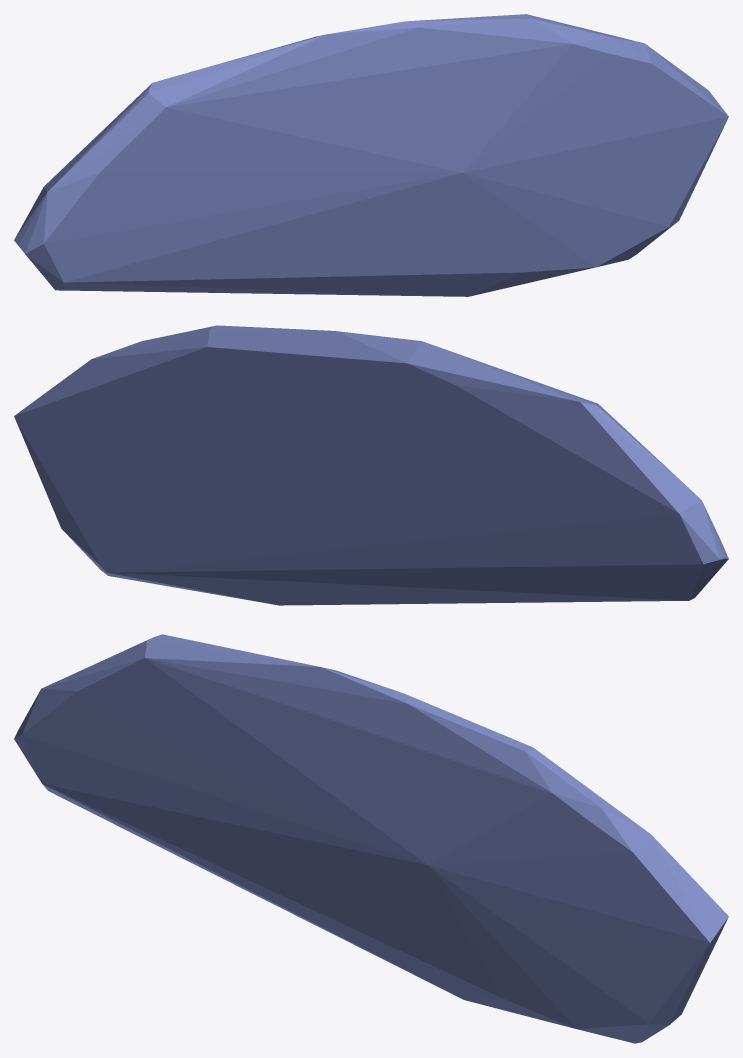
Rendered from handTool_wrench_chain_a01.glb.
3 renders of one model, top to bottom at view 1: azimuth 30°, elevation 25°; view 2: azimuth 150°, elevation 25°; view 3: azimuth 330°, elevation 25°, orthographic.
Visible parts, largest first — view 1: geometry_0; view 2: geometry_0; view 3: geometry_0.
Part boxes in pixels (x1,y1,x2,y2): geometry_0: (14, 14, 728, 296); geometry_0: (14, 325, 728, 605); geometry_0: (14, 634, 728, 1043).
Size of the model in its own units: 0.4685 by 0.1949 by 0.032.
